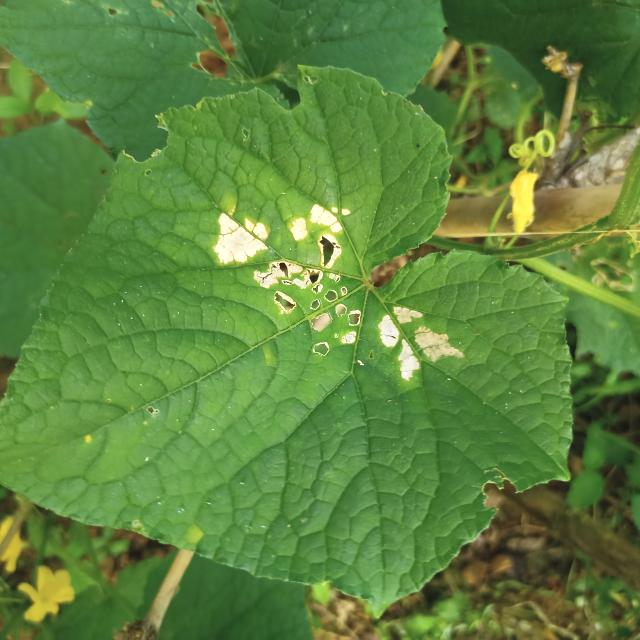disease_cucumber: (208, 194, 365, 367), (377, 301, 462, 385)
